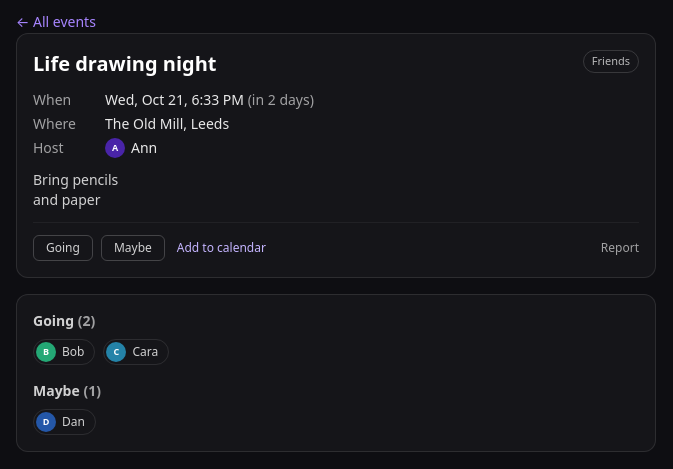
Test: EventDetailPage › lets a guest answer and the counts follow
Step 1. Click the button "Going" → coordinates (63, 248), box [33,235,93,261]
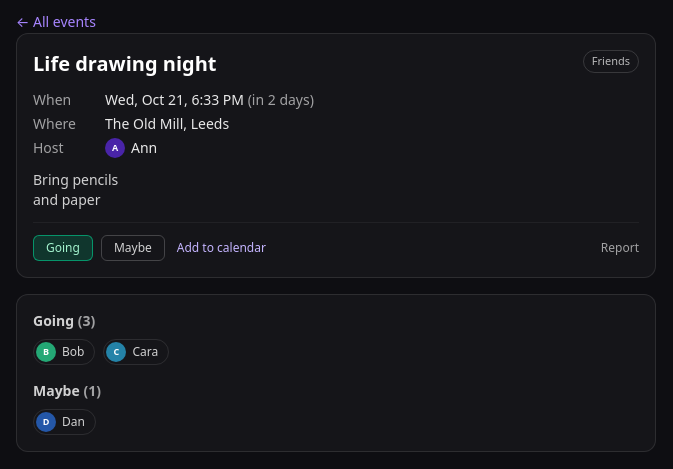
Now the element "Going (3)" is shown, box [33,311,169,365]
